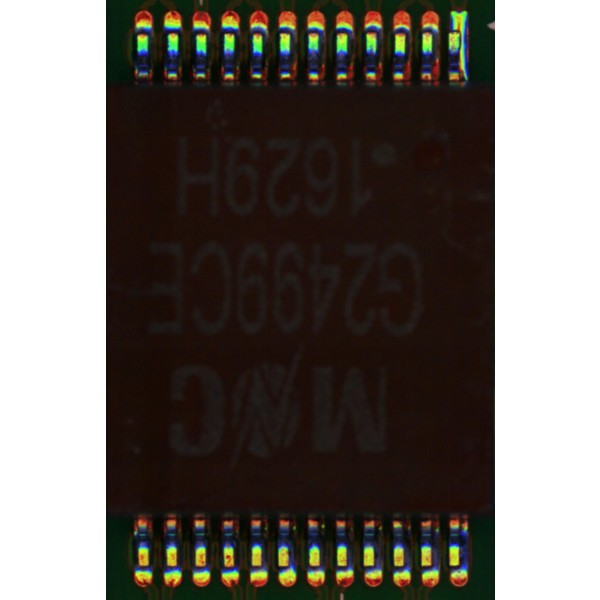Bad_podu: (454, 20, 462, 39)
Bad_qiaojiao: (460, 34, 468, 81)
